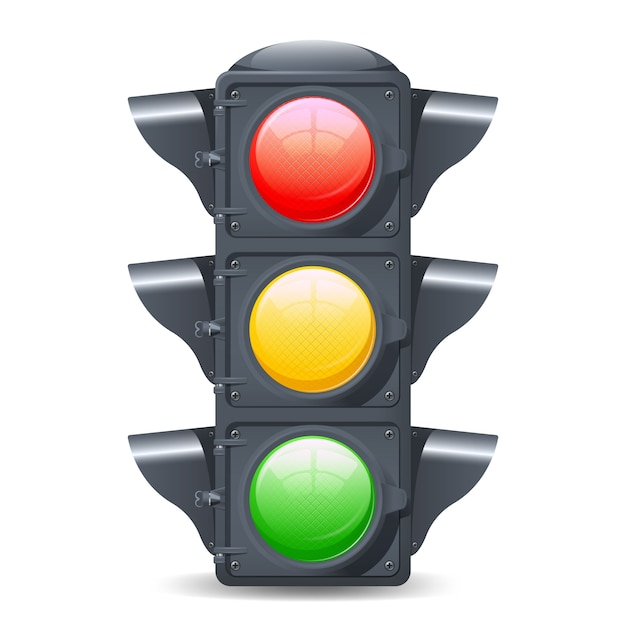TraficLight: (121, 25, 512, 592)
